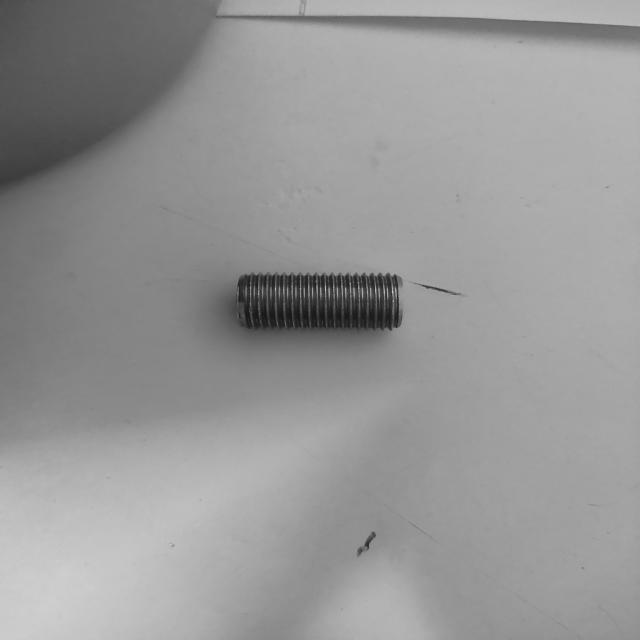Normal: (236, 272, 405, 333)
